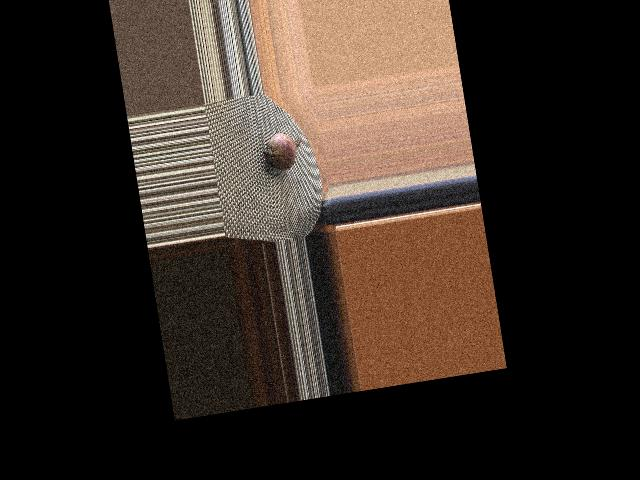beet: (258, 123, 311, 178)
